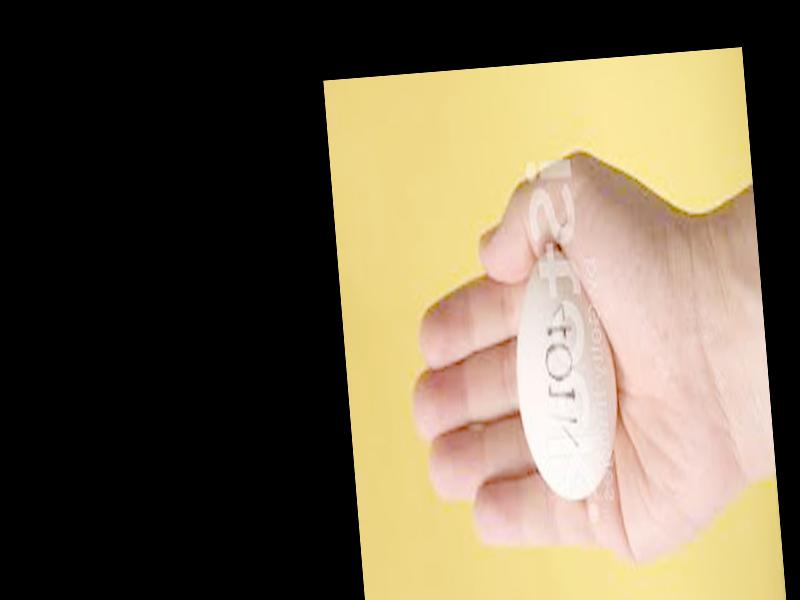Eggs: (507, 245, 623, 503)
